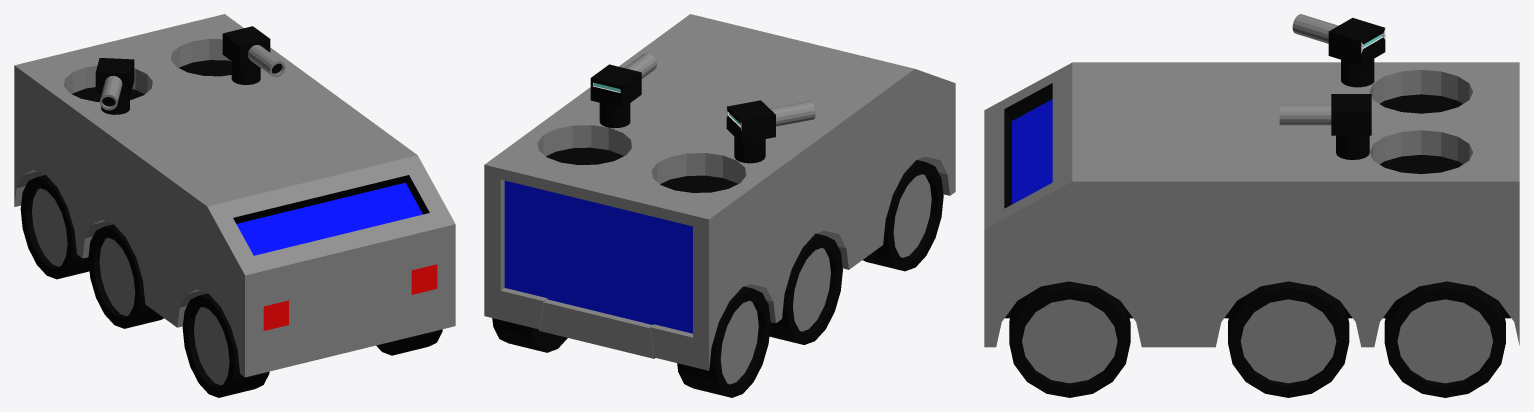
Rendered from Armored Vehicle With Weapons.fbx.
3 views of the same model, side by side, from view 1: azimuth 30°, elevation 25°; view 2: azimuth 150°, elevation 25°; view 3: azimuth 270°, elevation 25° (orthographic). The views are drawn at different scales.
Visible parts, largest first — view 1: Cylinder; view 2: Cylinder; view 3: Cylinder.
Part boxes in pixels (x1=…): Cylinder: x1=14, y1=14, x2=455, y2=397; Cylinder: x1=484, y1=14, x2=955, y2=397; Cylinder: x1=984, y1=14, x2=1519, y2=397.
Bounding box in the file's own units: 239 × 241 × 439.
